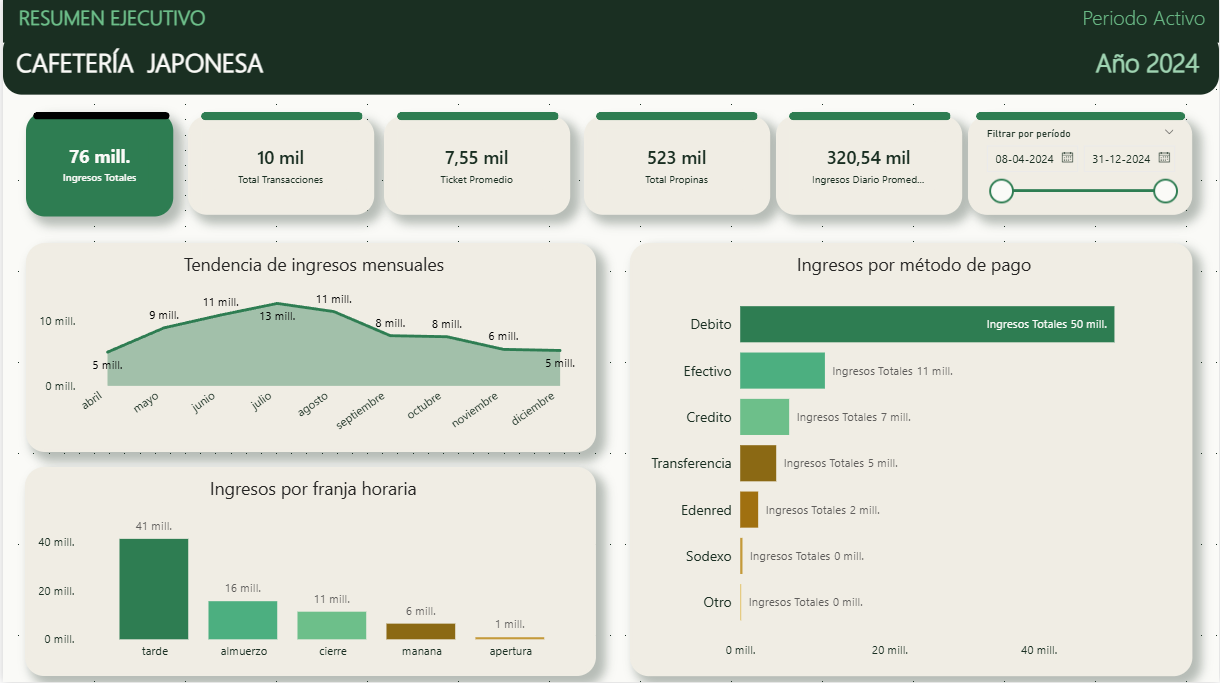

The dashboard page shown, as its layout file describes it:
{"tool":"powerbi","page":{"name":"Resumen Ejecutivo","canvas":[1280,720],"ordinal":0},"visuals":[{"type":"textbox","box":[0,0,1280.2,46.5],"z":0},{"type":"textbox","box":[0,34.2,1280.2,66.7],"z":1000},{"type":"cardVisual","title":"Ingresos 2024","fields":{"Data":["DimFecha.Ingresos Totales"]},"box":[23.7,120.3,155.4,110],"z":2000},{"type":"cardVisual","fields":{"Data":["DimFecha.Total Transacciones"]},"box":[194.9,124.7,195.8,104],"z":3000},{"type":"cardVisual","fields":{"Data":["DimFecha.Ticket Promedio"]},"box":[401.3,124.7,195.8,104],"z":4000},{"type":"cardVisual","fields":{"Data":["DimFecha.Total Propinas"]},"box":[611.1,124.7,195.8,104],"z":5000},{"type":"cardVisual","fields":{"Data":["DimFecha.Ingresos Diario Promedio"]},"box":[814,124.7,195.8,104],"z":6000},{"type":"lineChart","title":"Tendencia de ingresos mensuales","fields":{"Category":["DimFecha.Mes Nombre"],"Y":["DimFecha.Ingresos Totales"]},"box":[23.7,258.1,600,220.4],"z":7000},{"type":"barChart","title":"Ingresos por método de pago","fields":{"Category":["transactions_clean.metodo_pago_clean"],"Y":["DimFecha.Ingresos Totales"]},"box":[660.3,258.1,591.8,455.7],"z":8000},{"type":"clusteredColumnChart","title":"Ingresos por franja horaria","fields":{"Category":["transactions_clean.franja_horaria"],"Y":["DimFecha.Ingresos Totales"]},"box":[22.8,493.5,600.6,220.4],"z":9000},{"type":"slicer","fields":{"Values":["DimFecha.Date"]},"box":[1015.9,124.7,236.2,104.5],"z":10000},{"type":"shape","box":[208.1,120.3,170.3,8.8],"z":11000},{"type":"shape","box":[1023.8,120.3,220.4,8.8],"z":12000},{"type":"shape","box":[414.4,120.3,170.3,8.8],"z":13000},{"type":"shape","box":[624.3,120.3,170.3,8.8],"z":14000},{"type":"shape","box":[827.1,120.3,170.3,8.8],"z":15000},{"type":"shape","box":[32,120,144,8],"z":16000}]}

Visuals, with their boxes in screenshot pixels (x1, y1, x2, y2), scaled from the page's 1280x720 canvas onto the 1220x683 screenshot:
textbox: (0,0,1219,44)
textbox: (0,32,1219,96)
"Ingresos 2024" cardVisual: (23,114,171,218)
cardVisual - DimFecha.Total Transacciones: (186,118,372,217)
cardVisual - DimFecha.Ticket Promedio: (382,118,569,217)
cardVisual - DimFecha.Total Propinas: (582,118,769,217)
cardVisual - DimFecha.Ingresos Diario Promedio: (776,118,962,217)
"Tendencia de ingresos mensuales" lineChart: (23,245,594,454)
"Ingresos por método de pago" barChart: (629,245,1193,677)
"Ingresos por franja horaria" clusteredColumnChart: (22,468,594,677)
slicer - DimFecha.Date: (968,118,1193,217)
shape: (198,114,361,122)
shape: (976,114,1186,122)
shape: (395,114,557,122)
shape: (595,114,757,122)
shape: (788,114,951,122)
shape: (30,114,168,121)
